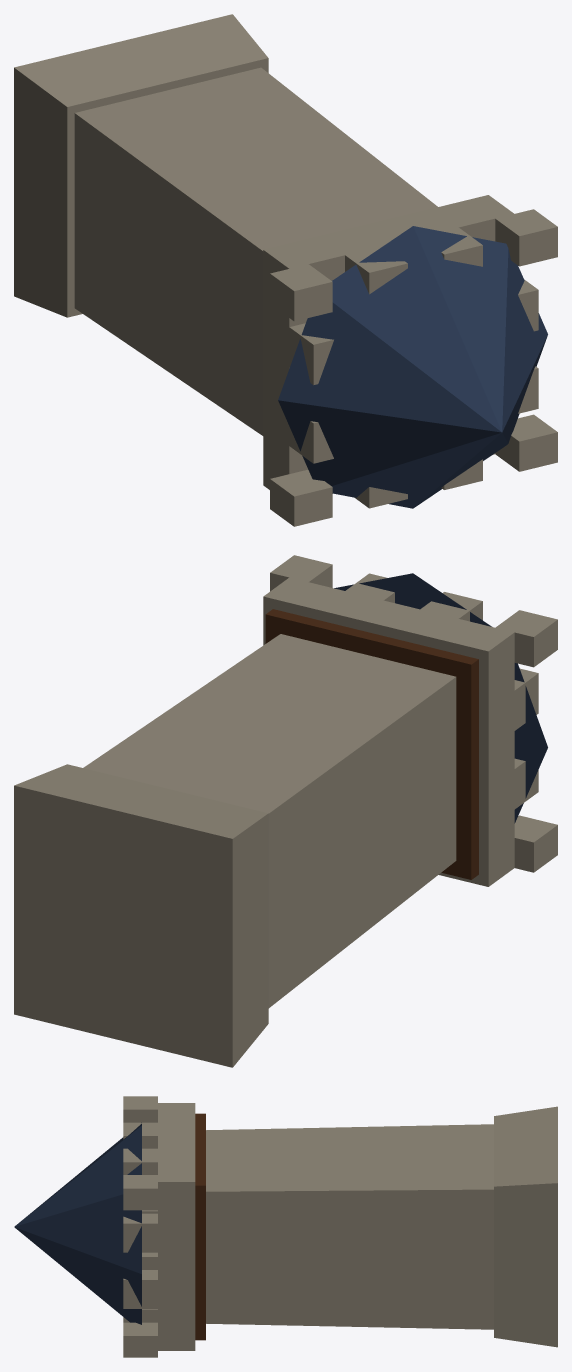
File: SM_Watchtower.obj
The picture shows the model from 3 angles, top to bottom: view 1: azimuth 30°, elevation 25°; view 2: azimuth 150°, elevation 25°; view 3: azimuth 270°, elevation 25°; orthographic projection. The views are drawn at different scales.
Visible parts, largest first — view 1: SM_Watchtower; view 2: SM_Watchtower; view 3: SM_Watchtower.
Boxes of the visible parts, box(x1,y1,x2,y2) form: SM_Watchtower: box(14, 14, 557, 526); SM_Watchtower: box(14, 555, 557, 1067); SM_Watchtower: box(14, 1096, 557, 1357).
Size of the model in its own units: 420 by 420 by 1020.
